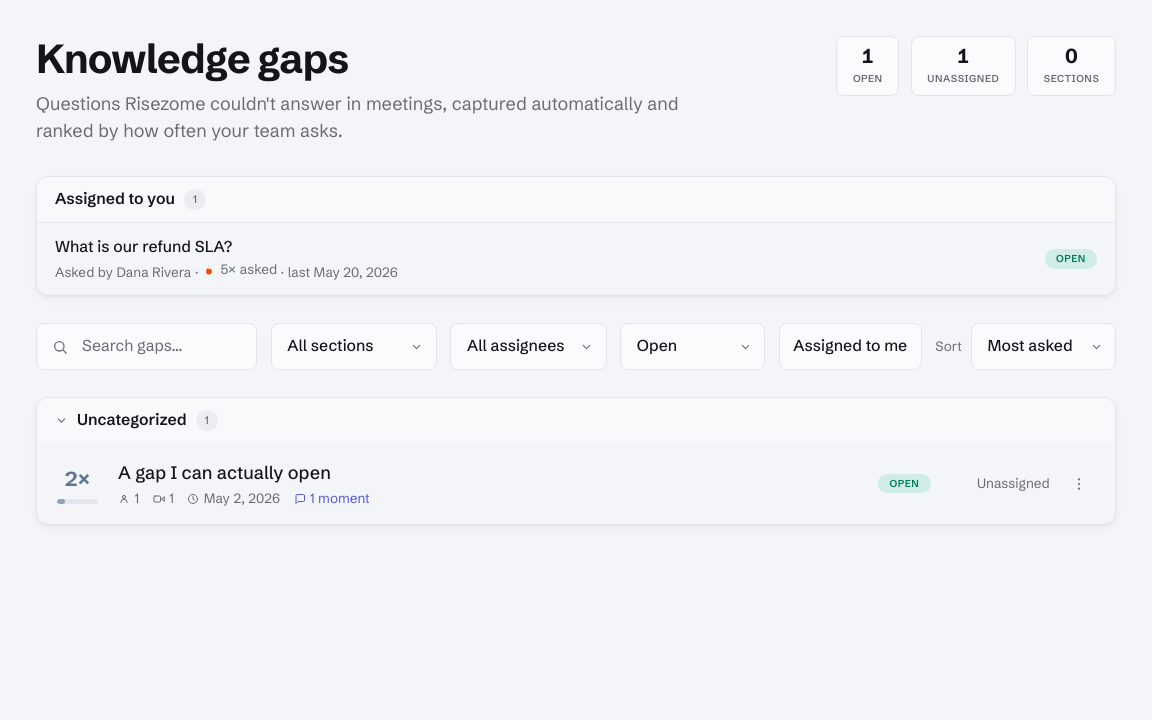
Test: GapsClient — "Assigned to you" (U8) › opens a CONTENT-GATED drawer when an assigned row is clicked (no verbatim)
What coordinates should you click on to do the following:
click the button "What is our refund SLA?"
I would click on:
 (144, 246)
Its box is left=37, top=222, right=1115, bottom=295.
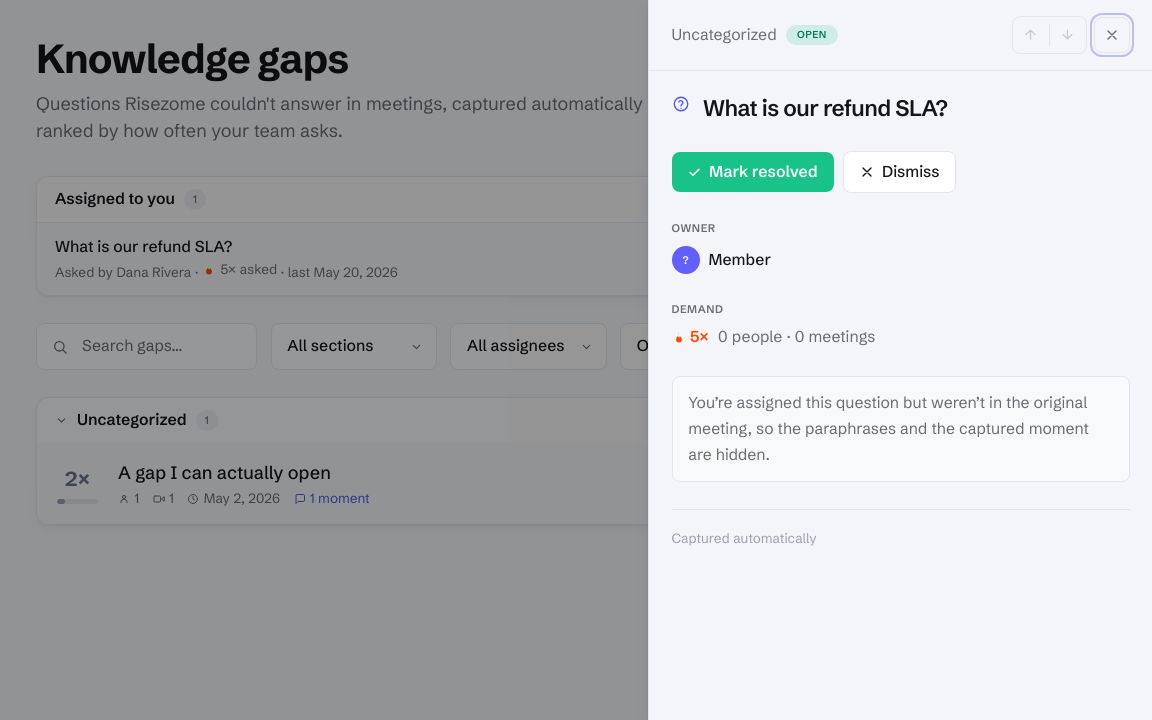
Result: the text "weren’t in the original meeting" is shown at left=688, top=393, right=1089, bottom=464
Result: the button "Mark resolved" is shown at left=672, top=152, right=834, bottom=192
